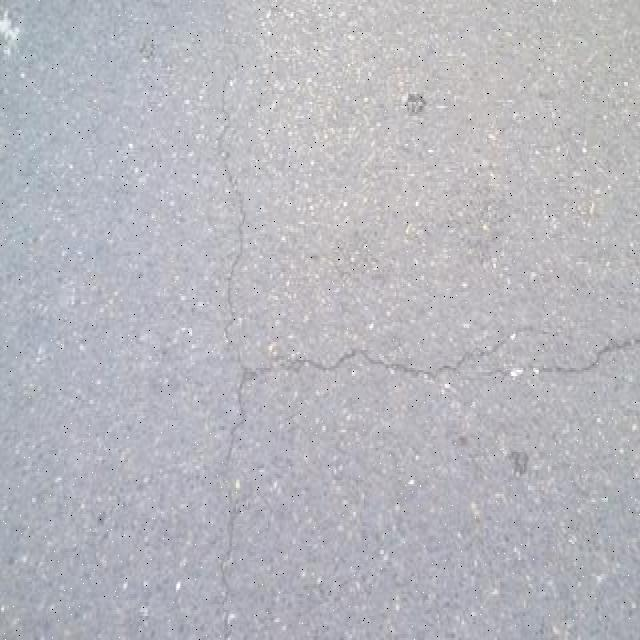moderate crack: (210, 39, 270, 637), (240, 328, 640, 377), (452, 424, 534, 474), (305, 347, 365, 372)
severe crack: (436, 6, 640, 353), (5, 6, 240, 290), (221, 310, 271, 367), (432, 362, 462, 379)
